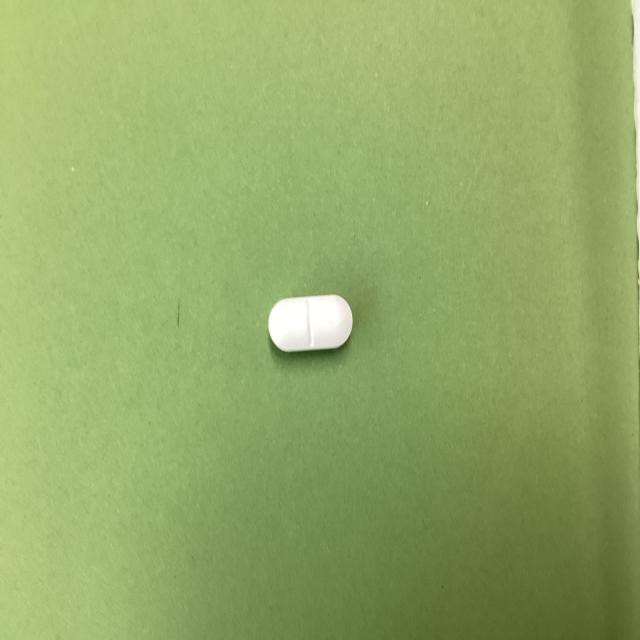-: (264, 282, 360, 370)
